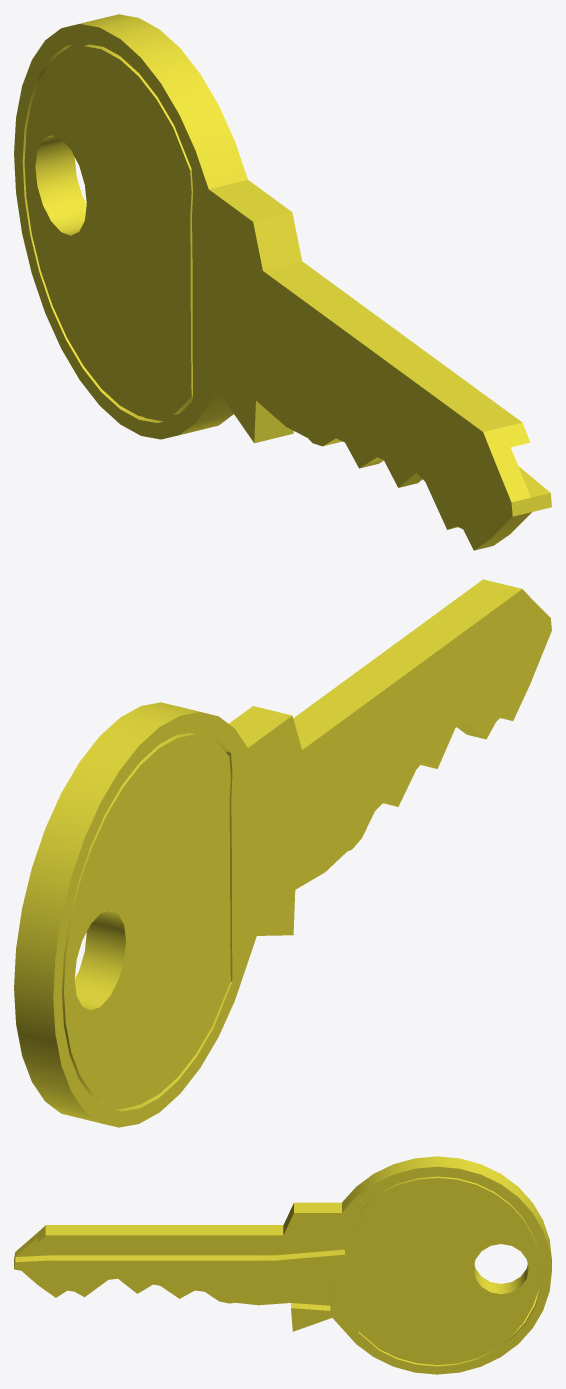
File: key2.fbx
The picture shows the model from 3 angles, top to bottom: view 1: azimuth 30°, elevation 25°; view 2: azimuth 150°, elevation 25°; view 3: azimuth 270°, elevation 25°; orthographic projection. The views are drawn at different scales.
Visible parts, largest first — view 1: 圆环.008; view 2: 圆环.008; view 3: 圆环.008.
Part boxes in pixels (<box>): 圆环.008: <box>14,14,551,550</box>; 圆环.008: <box>14,579,551,1127</box>; 圆环.008: <box>14,1156,551,1374</box>.
Size of the model in its own units: 20 by 187 by 439.
